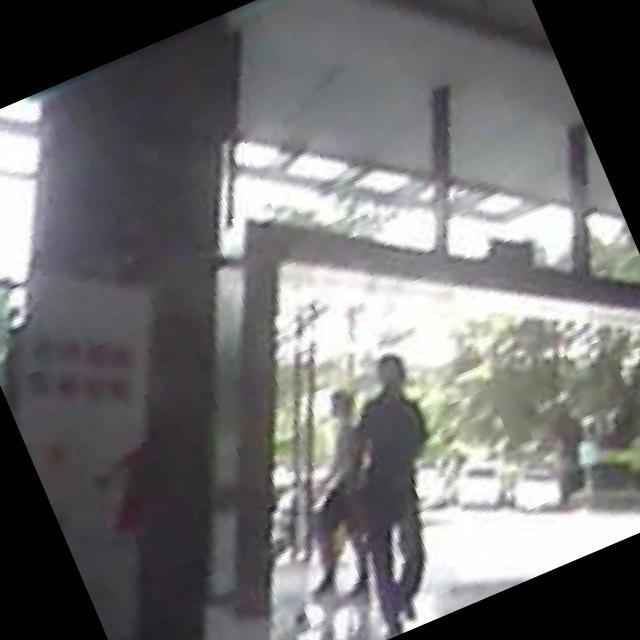person: (279, 336, 504, 640), (246, 385, 424, 605)
